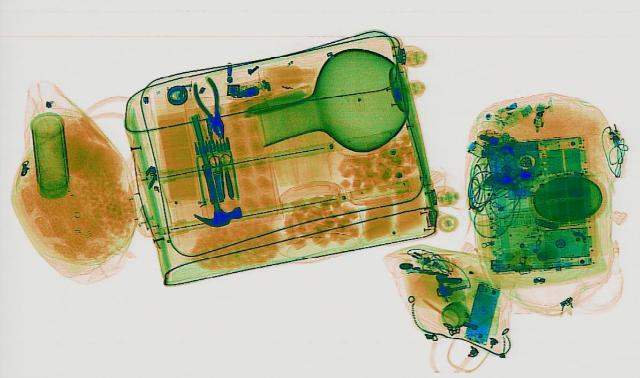Pliers: (188, 77, 232, 138)
Scissors: (204, 152, 233, 190)
